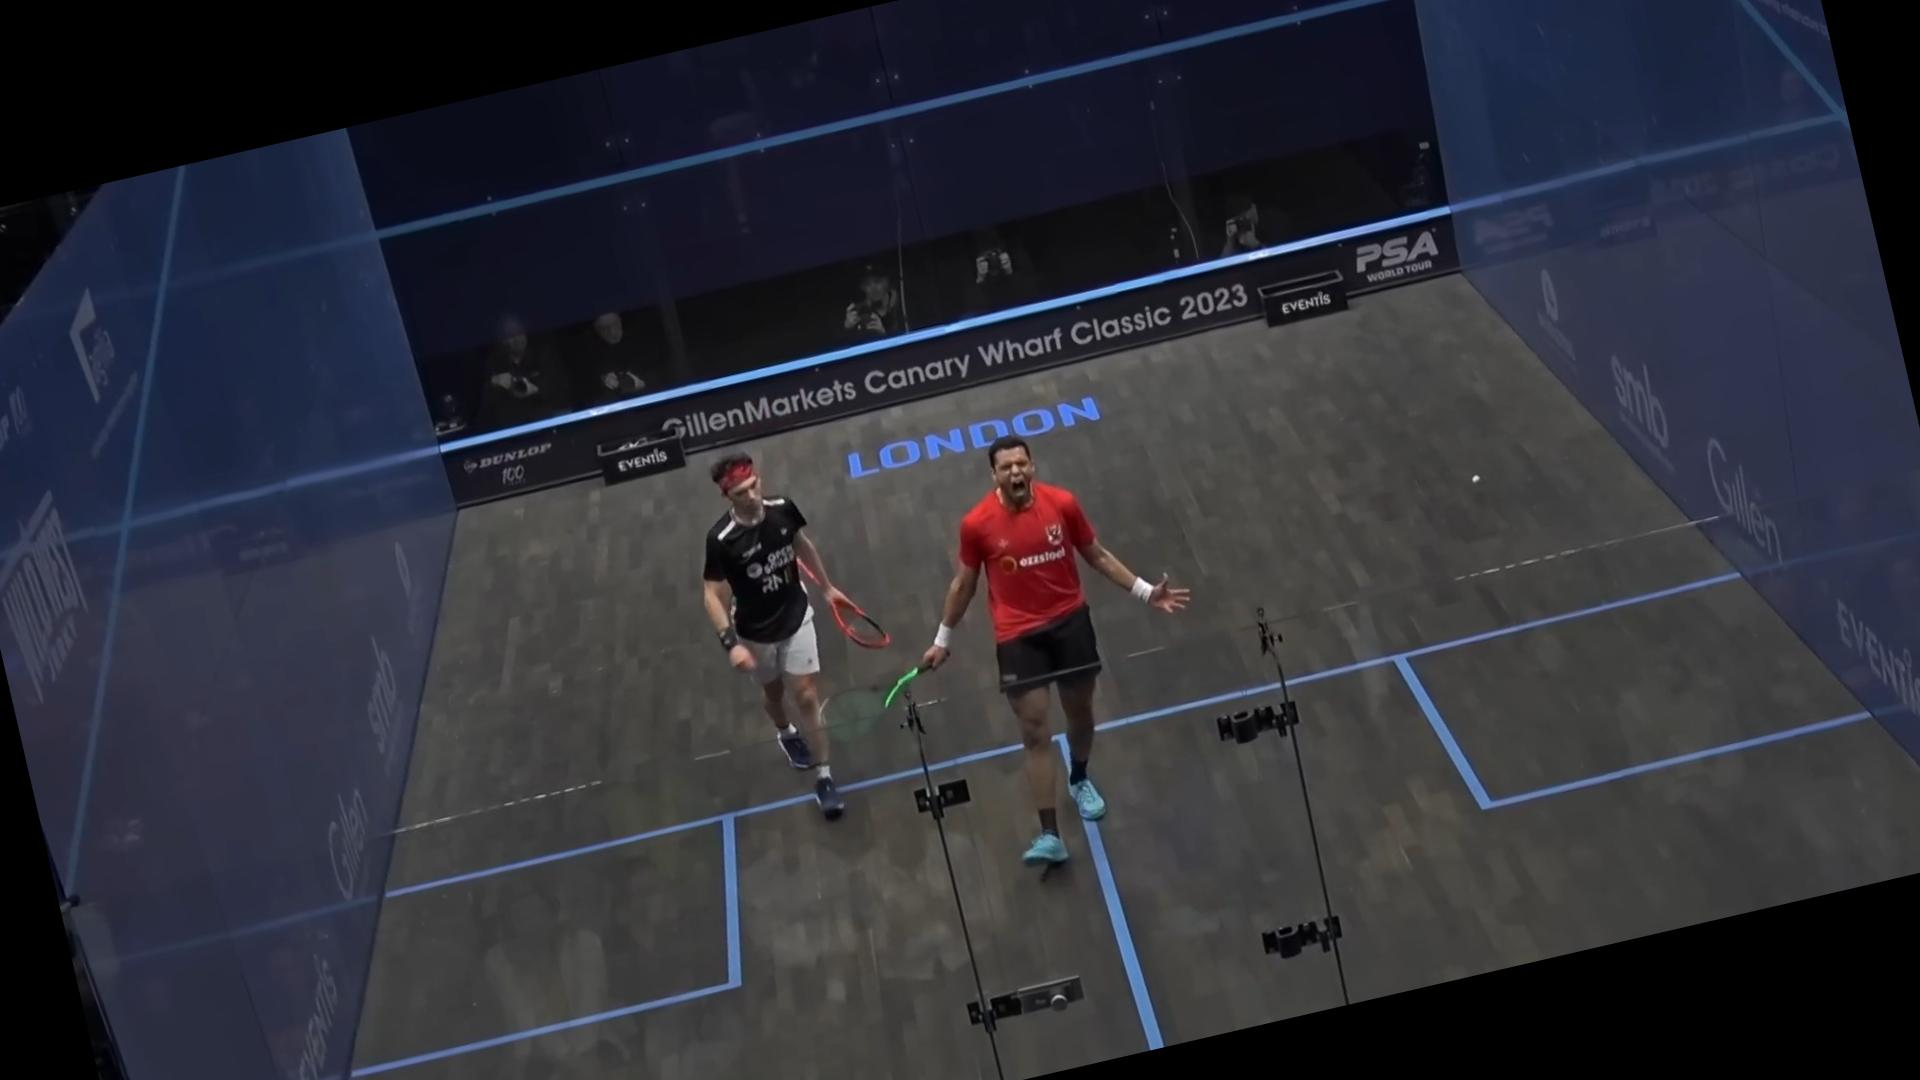Racket: (791, 669, 948, 793), (802, 556, 891, 654)
